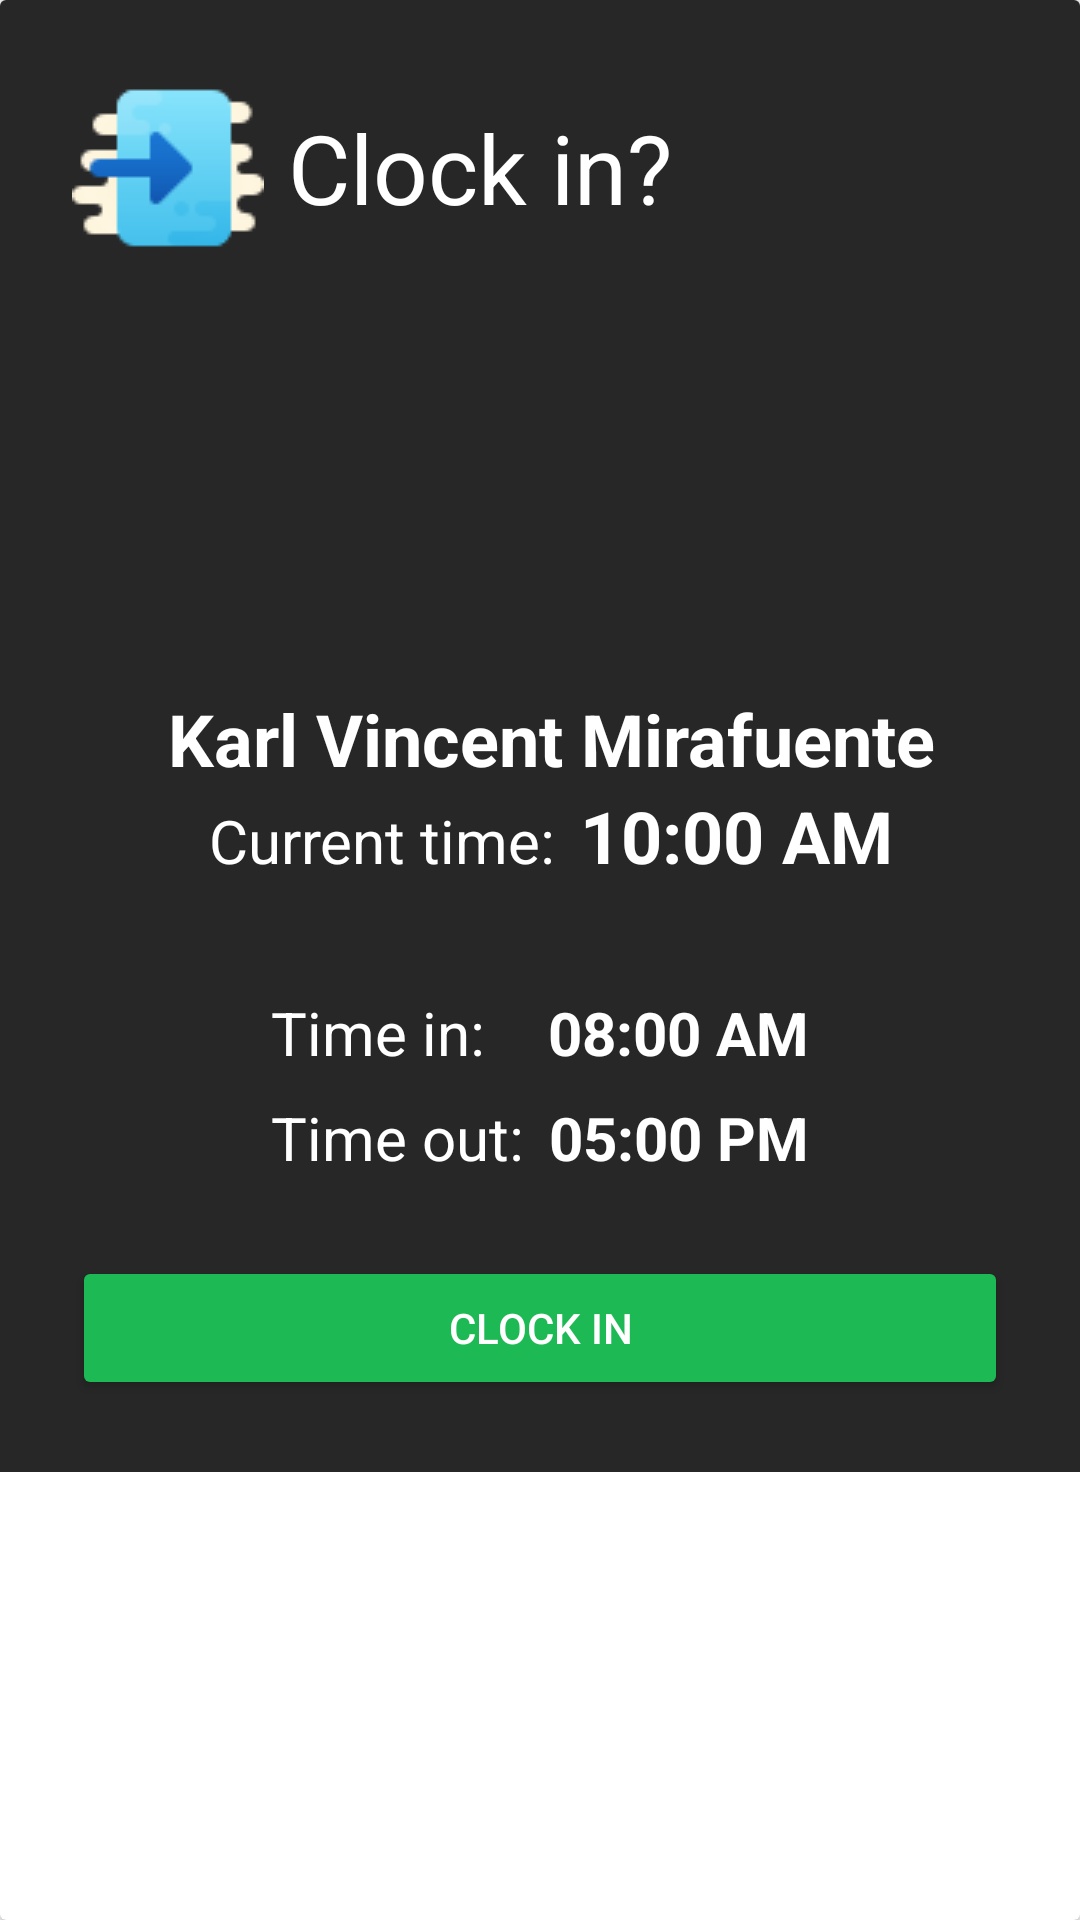

Icons on this 1080*1920 Android screen, each with its box as {"x1": x1, "y1": y1, "x2": x2, "y2": y2}:
enter: {"x1": 72, "y1": 89, "x2": 264, "y2": 247}
